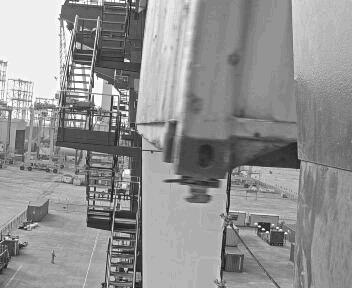twist_lock_1: (194, 174, 250, 213)
